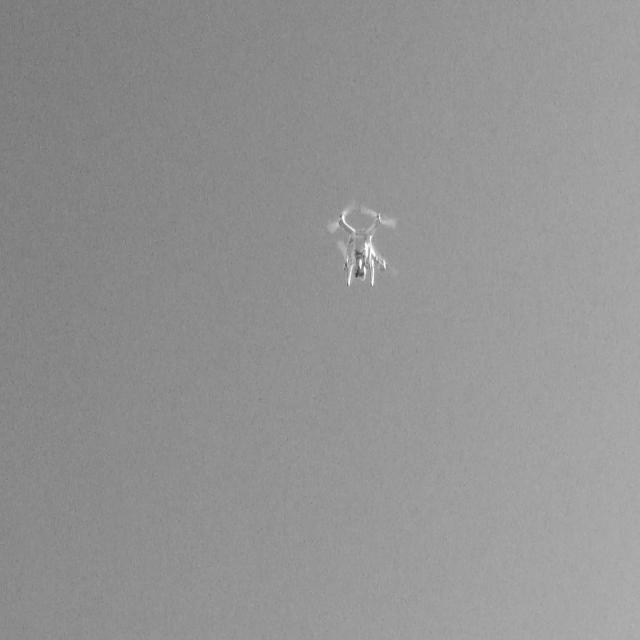drone: (326, 194, 398, 290)
